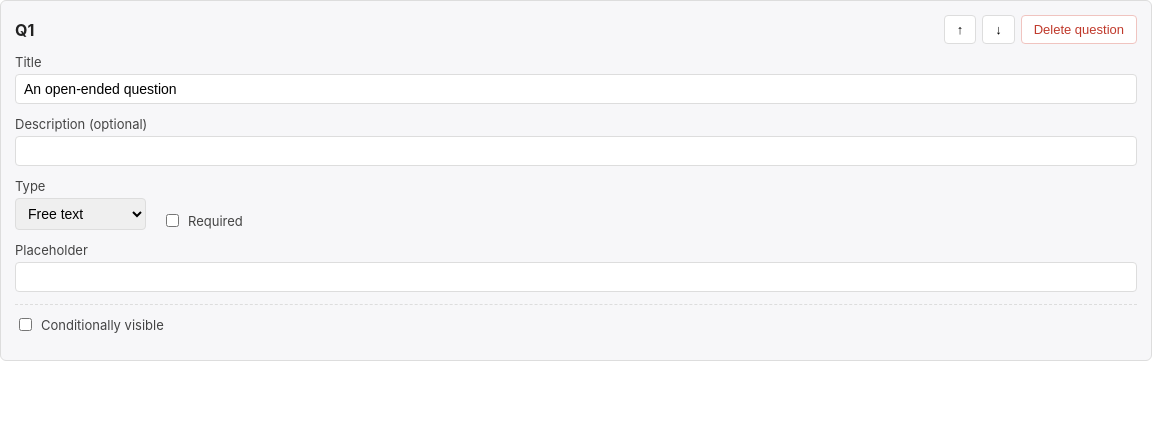
QuestionEditor — type switching › switching from "text" to "single" seeds a default option rather than leaving it empty
Check: the text "Options" is not shown
Select "Single choice" in the dropdown showing "Free text" at [80, 214], box top-left (15, 198), bottom-right (146, 230)
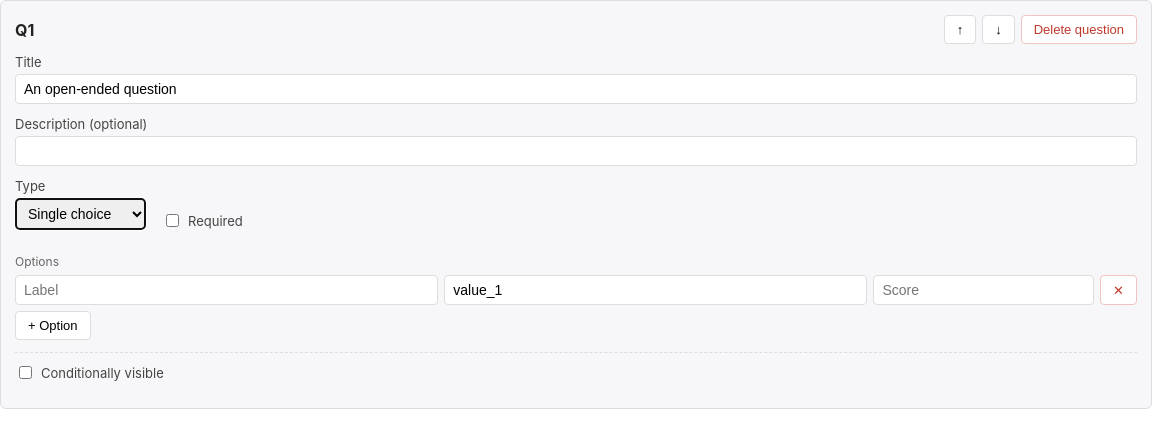
Check: the text "Options" is shown, box top-left (15, 254), bottom-right (59, 269)
Check: the number of fields with placeholder "Label" is 1, box top-left (15, 275), bottom-right (438, 305)
